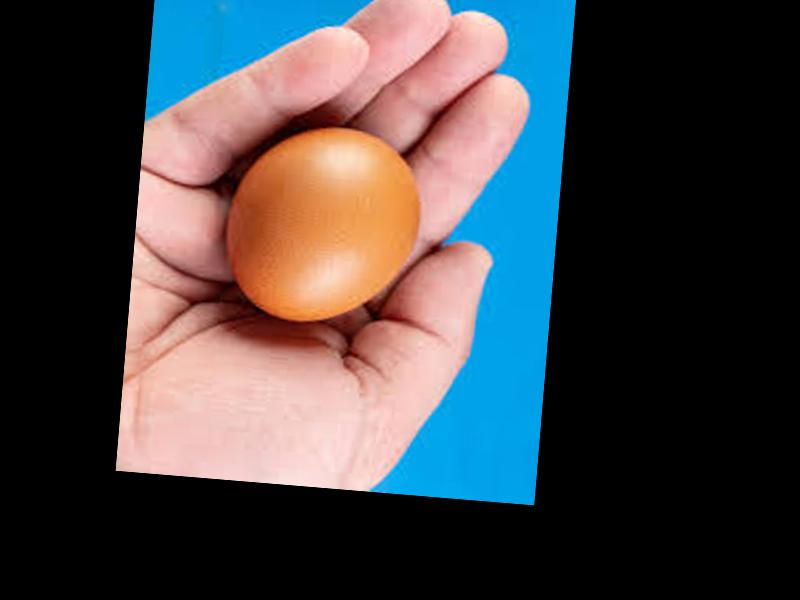Eggs: (224, 117, 426, 329)
